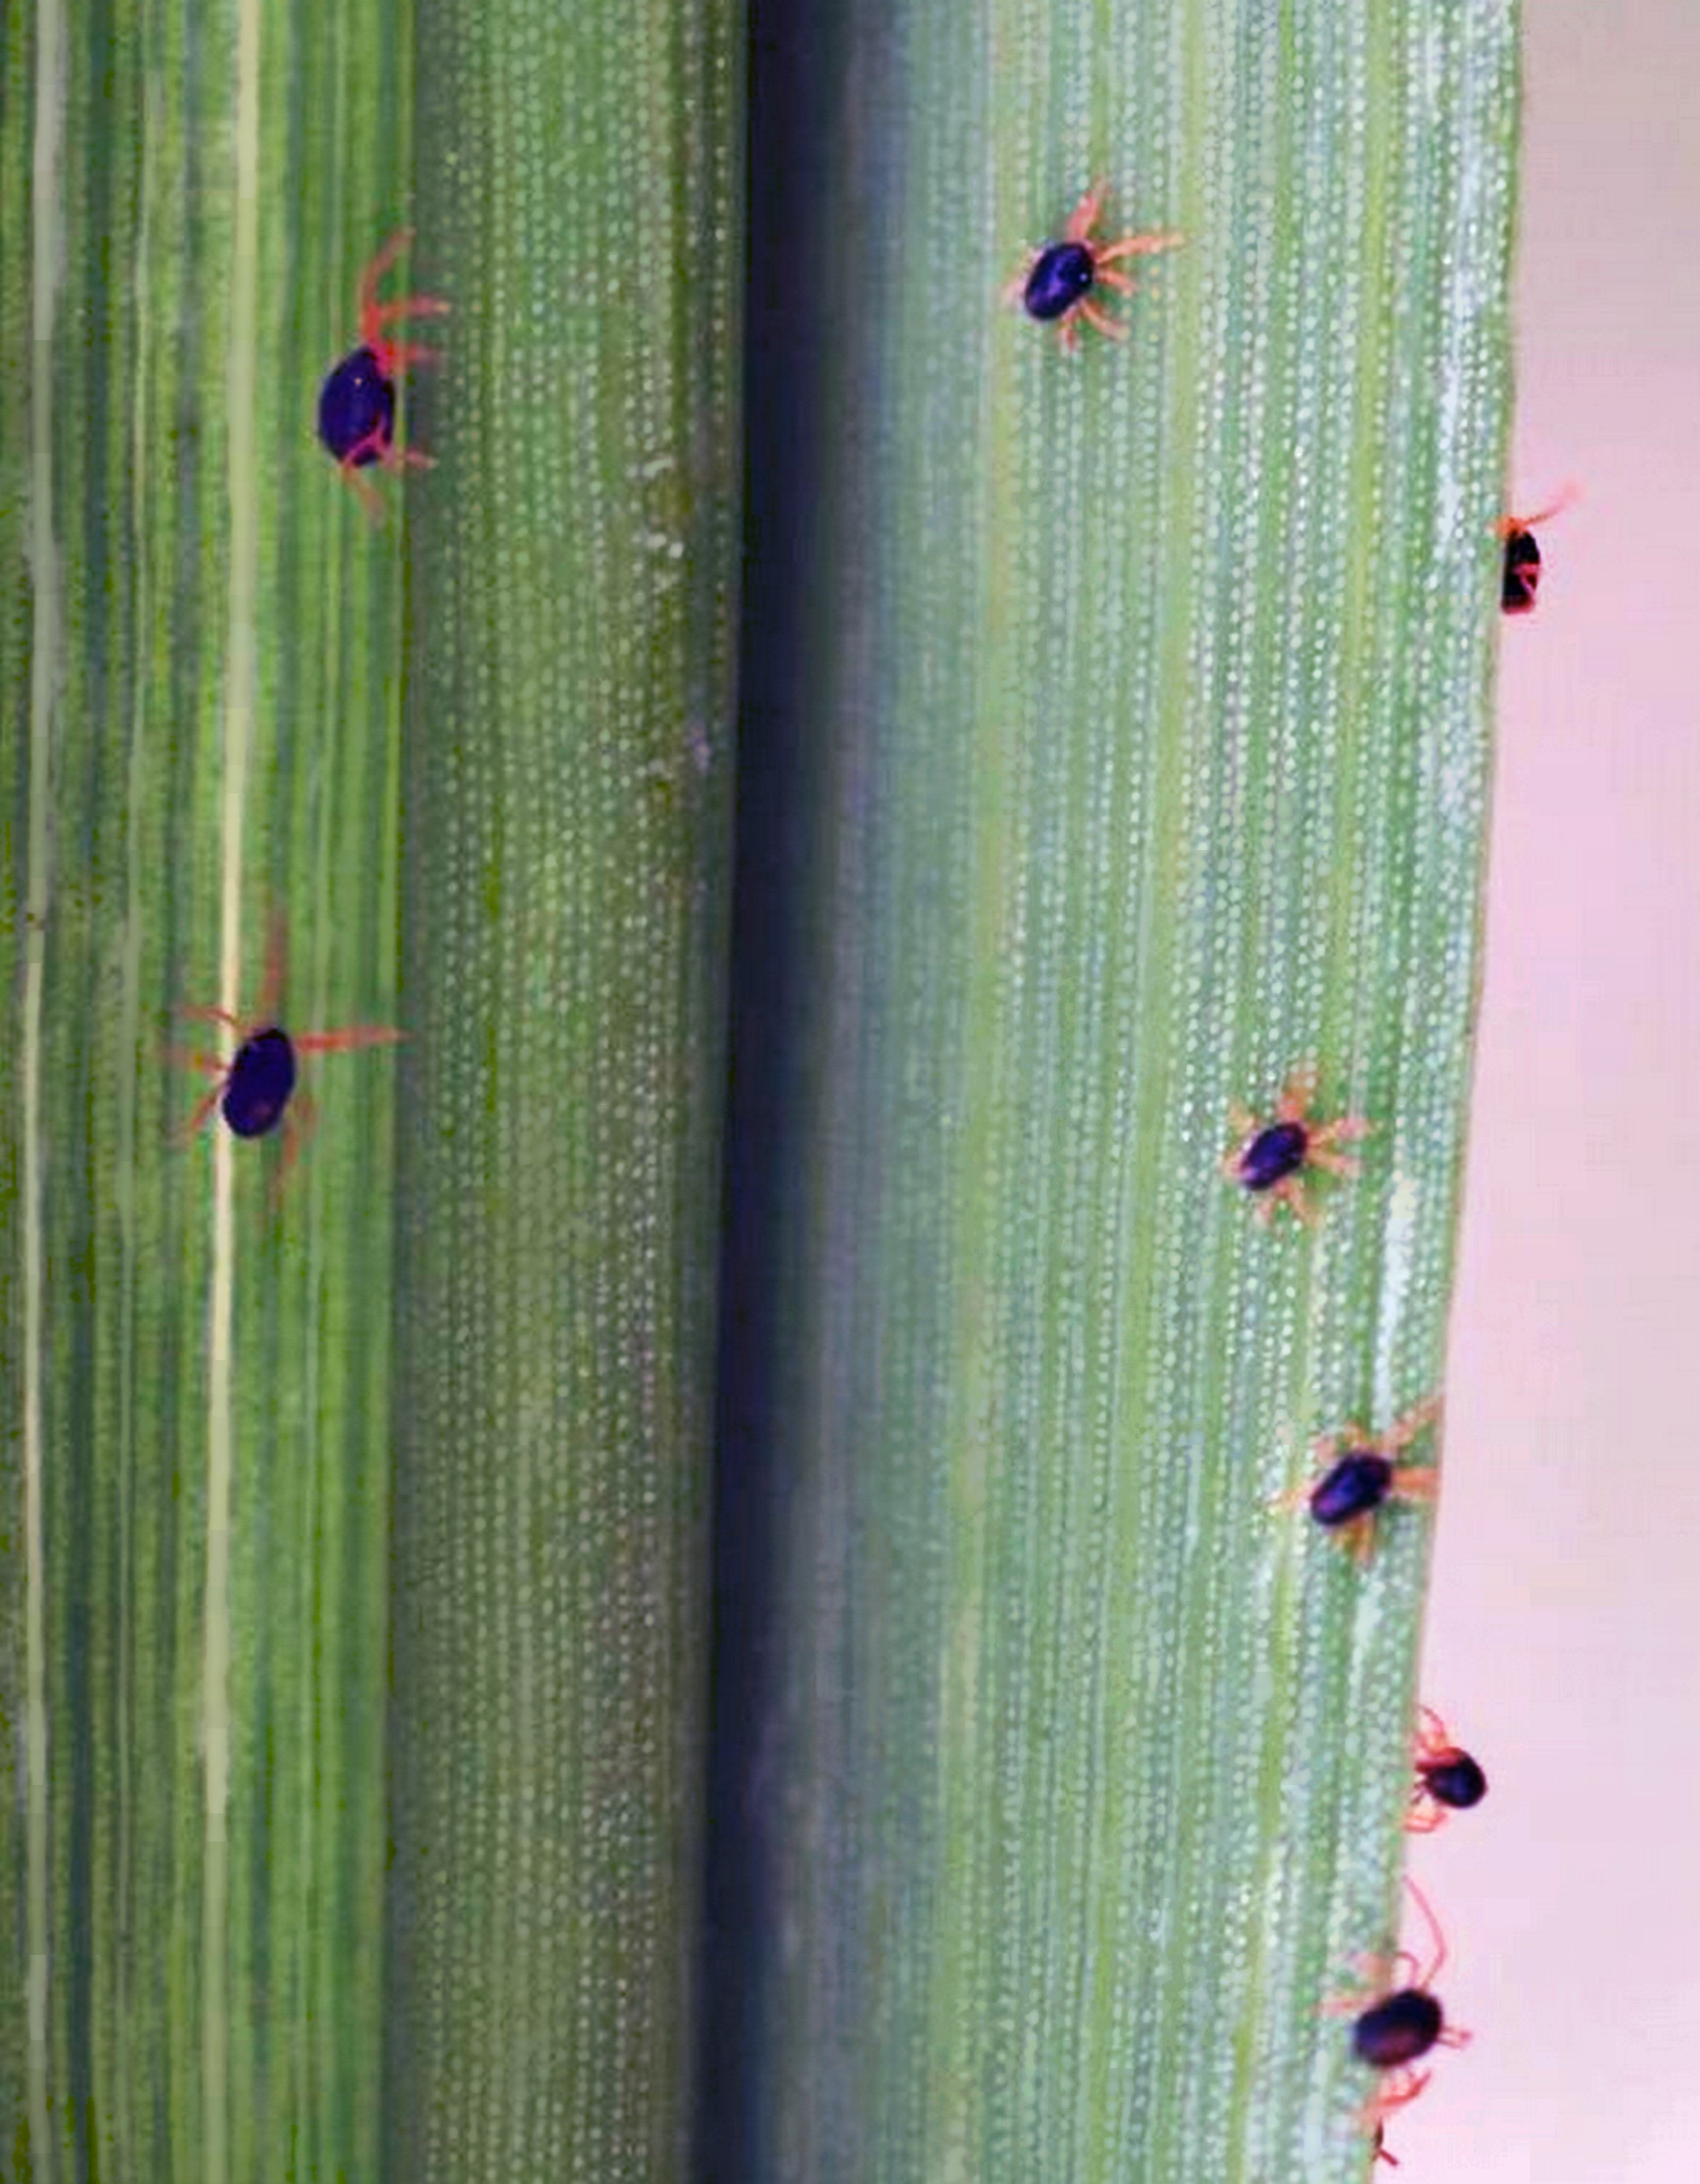Wheat Red Spider: (277, 209, 464, 526)
